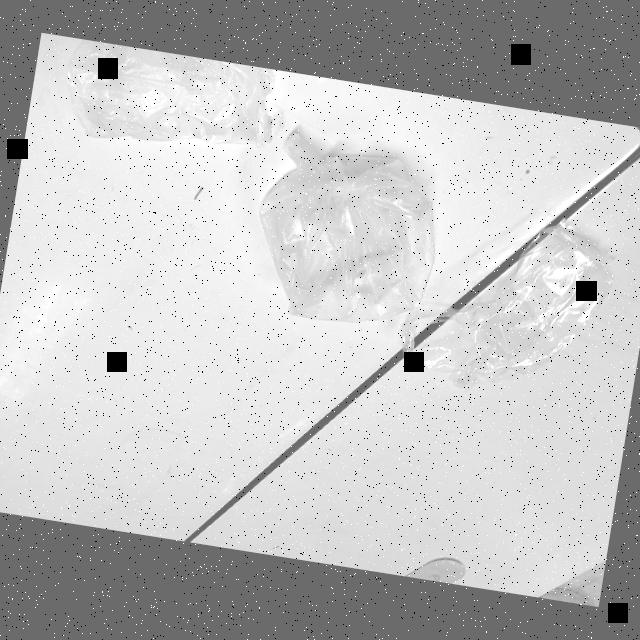plastic_bag: (393, 197, 622, 424), (244, 126, 450, 338)
scrap_plastic: (51, 38, 290, 174)
